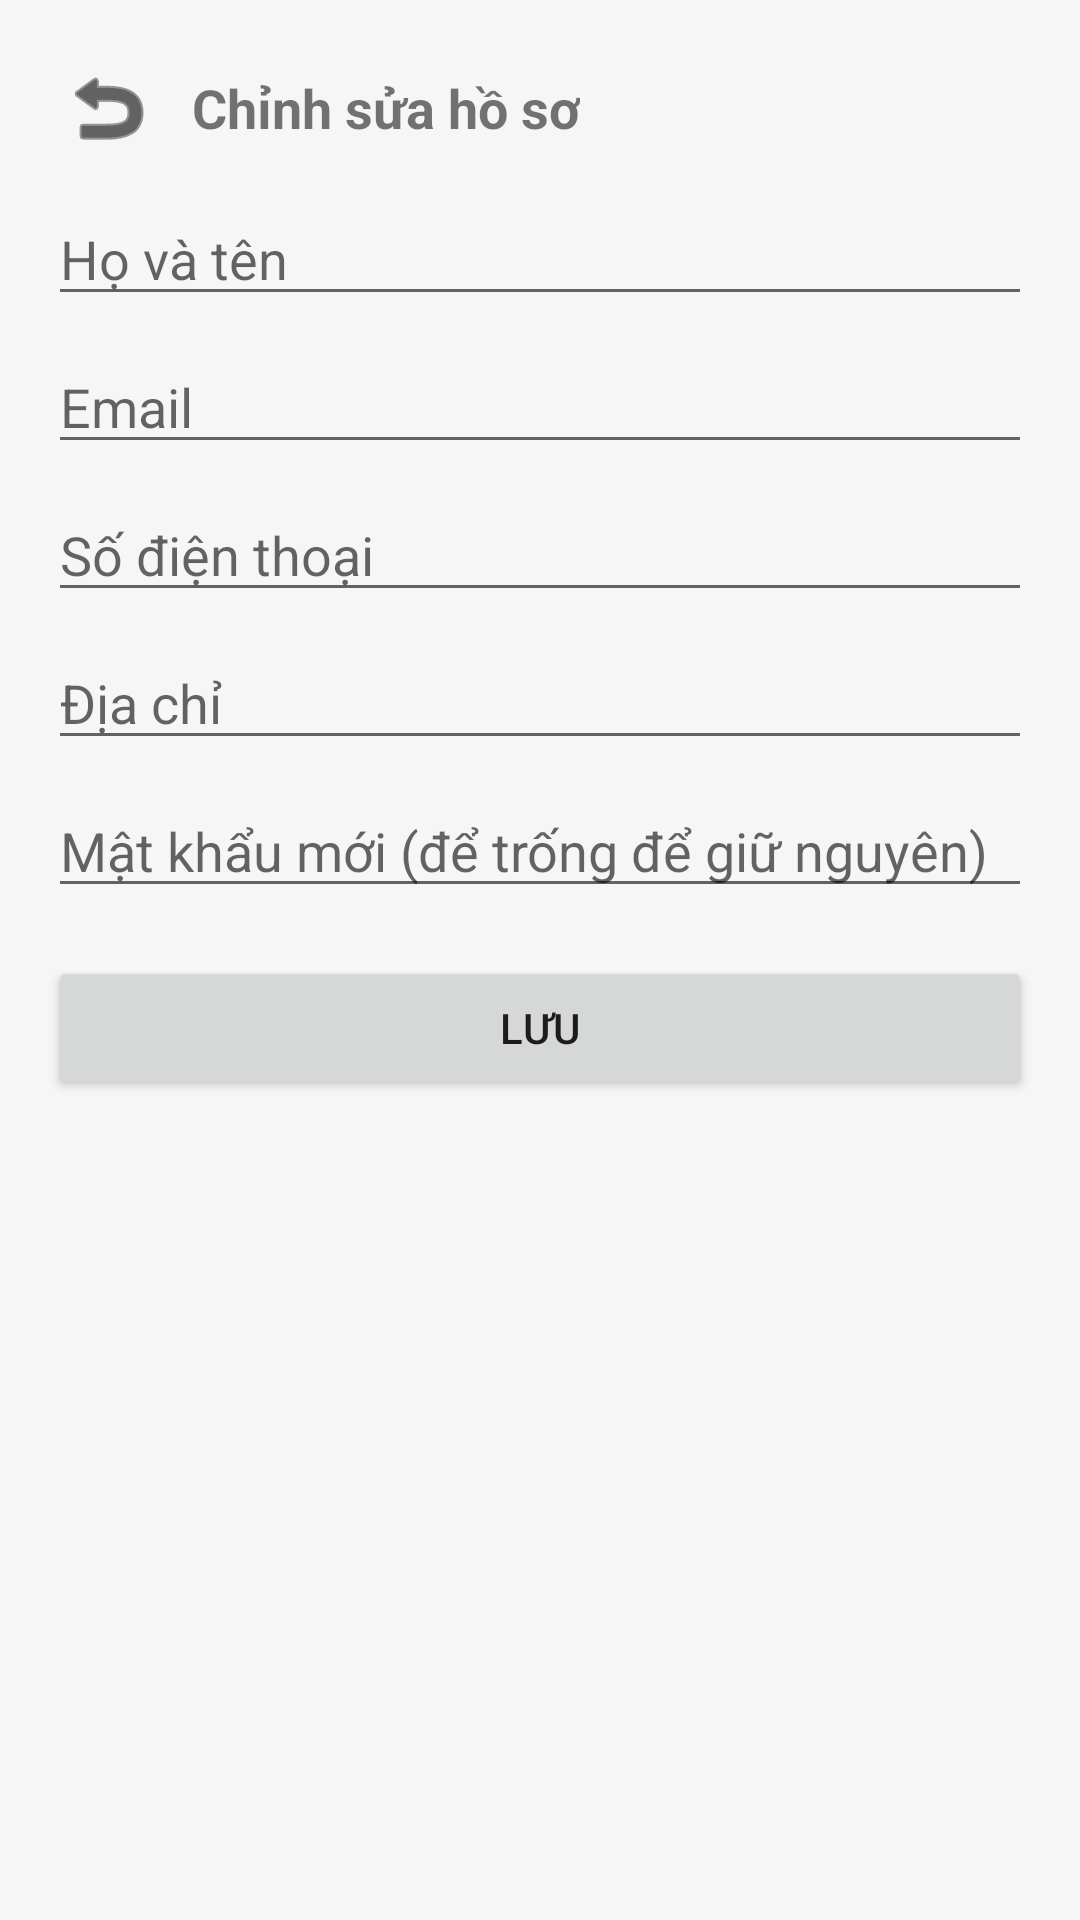

Screen size 1080 × 1920. Icon name, then its center in pixels as point (x, y):
Quay lại: point (109, 108)
